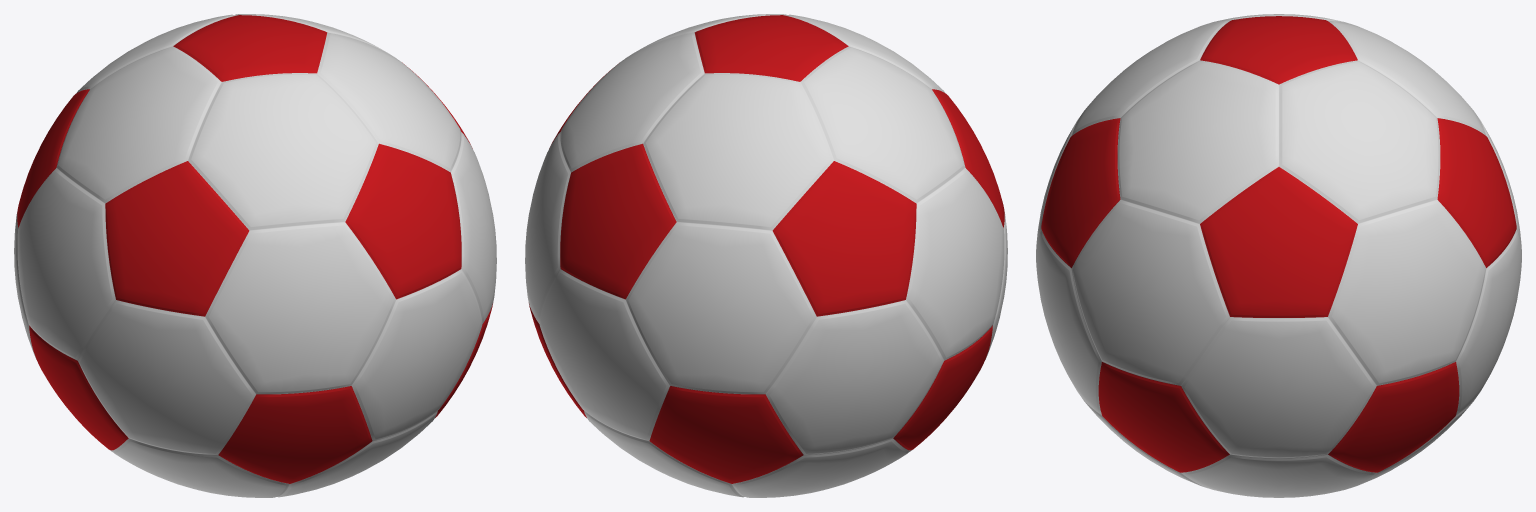
Rendered from polyfield_strikers-_football.glb.
The picture shows the model from 3 angles, left to right: view 1: azimuth 30°, elevation 25°; view 2: azimuth 150°, elevation 25°; view 3: azimuth 270°, elevation 25°; orthographic projection.
Parts seen in each view (by area): view 1: Icosphere; view 2: Icosphere; view 3: Icosphere.
Boxes of the visible parts, x1,y1,x2,y2 form: Icosphere: (14, 14, 496, 497); Icosphere: (525, 14, 1007, 497); Icosphere: (1036, 14, 1521, 497).
Bounding box in the file's own units: 1.74 × 1.74 × 1.75.
